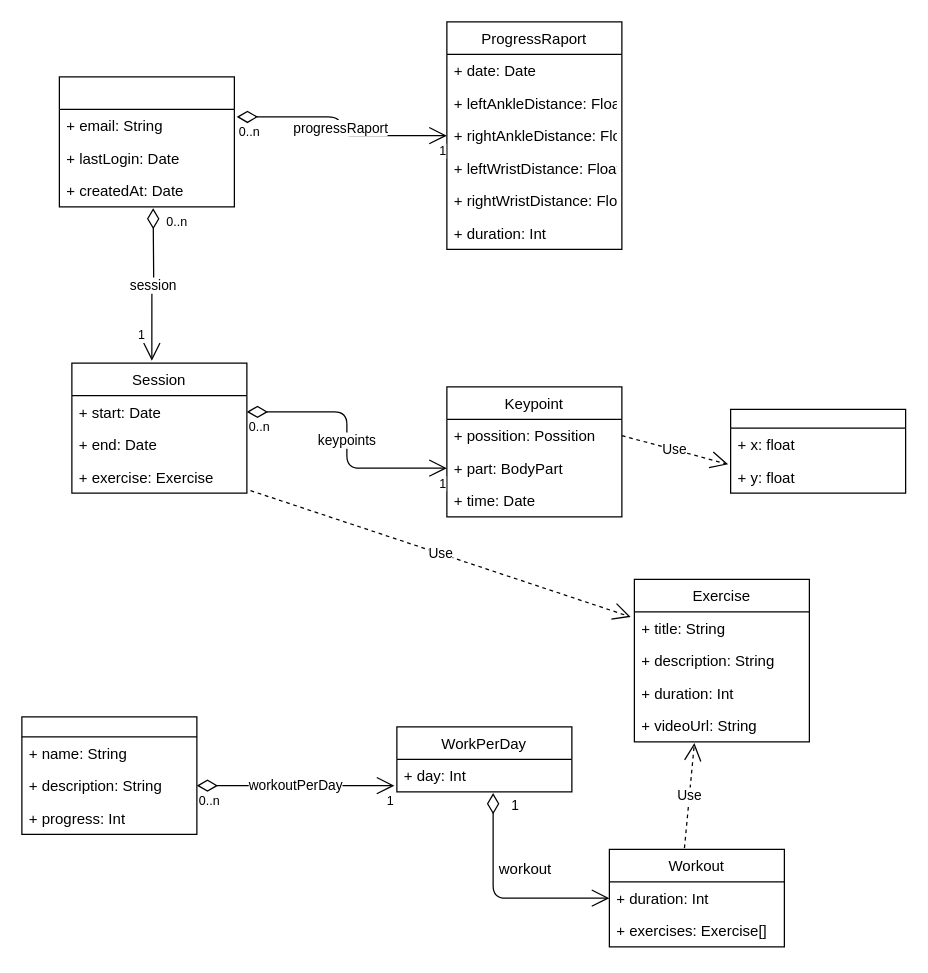
Image size: 928x973. Some labels were removed from this diagram. Here are the shapes that lost their labels. From the top down, the box of each, then its label:
(58, 76, 234, 207): User
(729, 408, 906, 493): Position
(21, 716, 197, 834): Program
